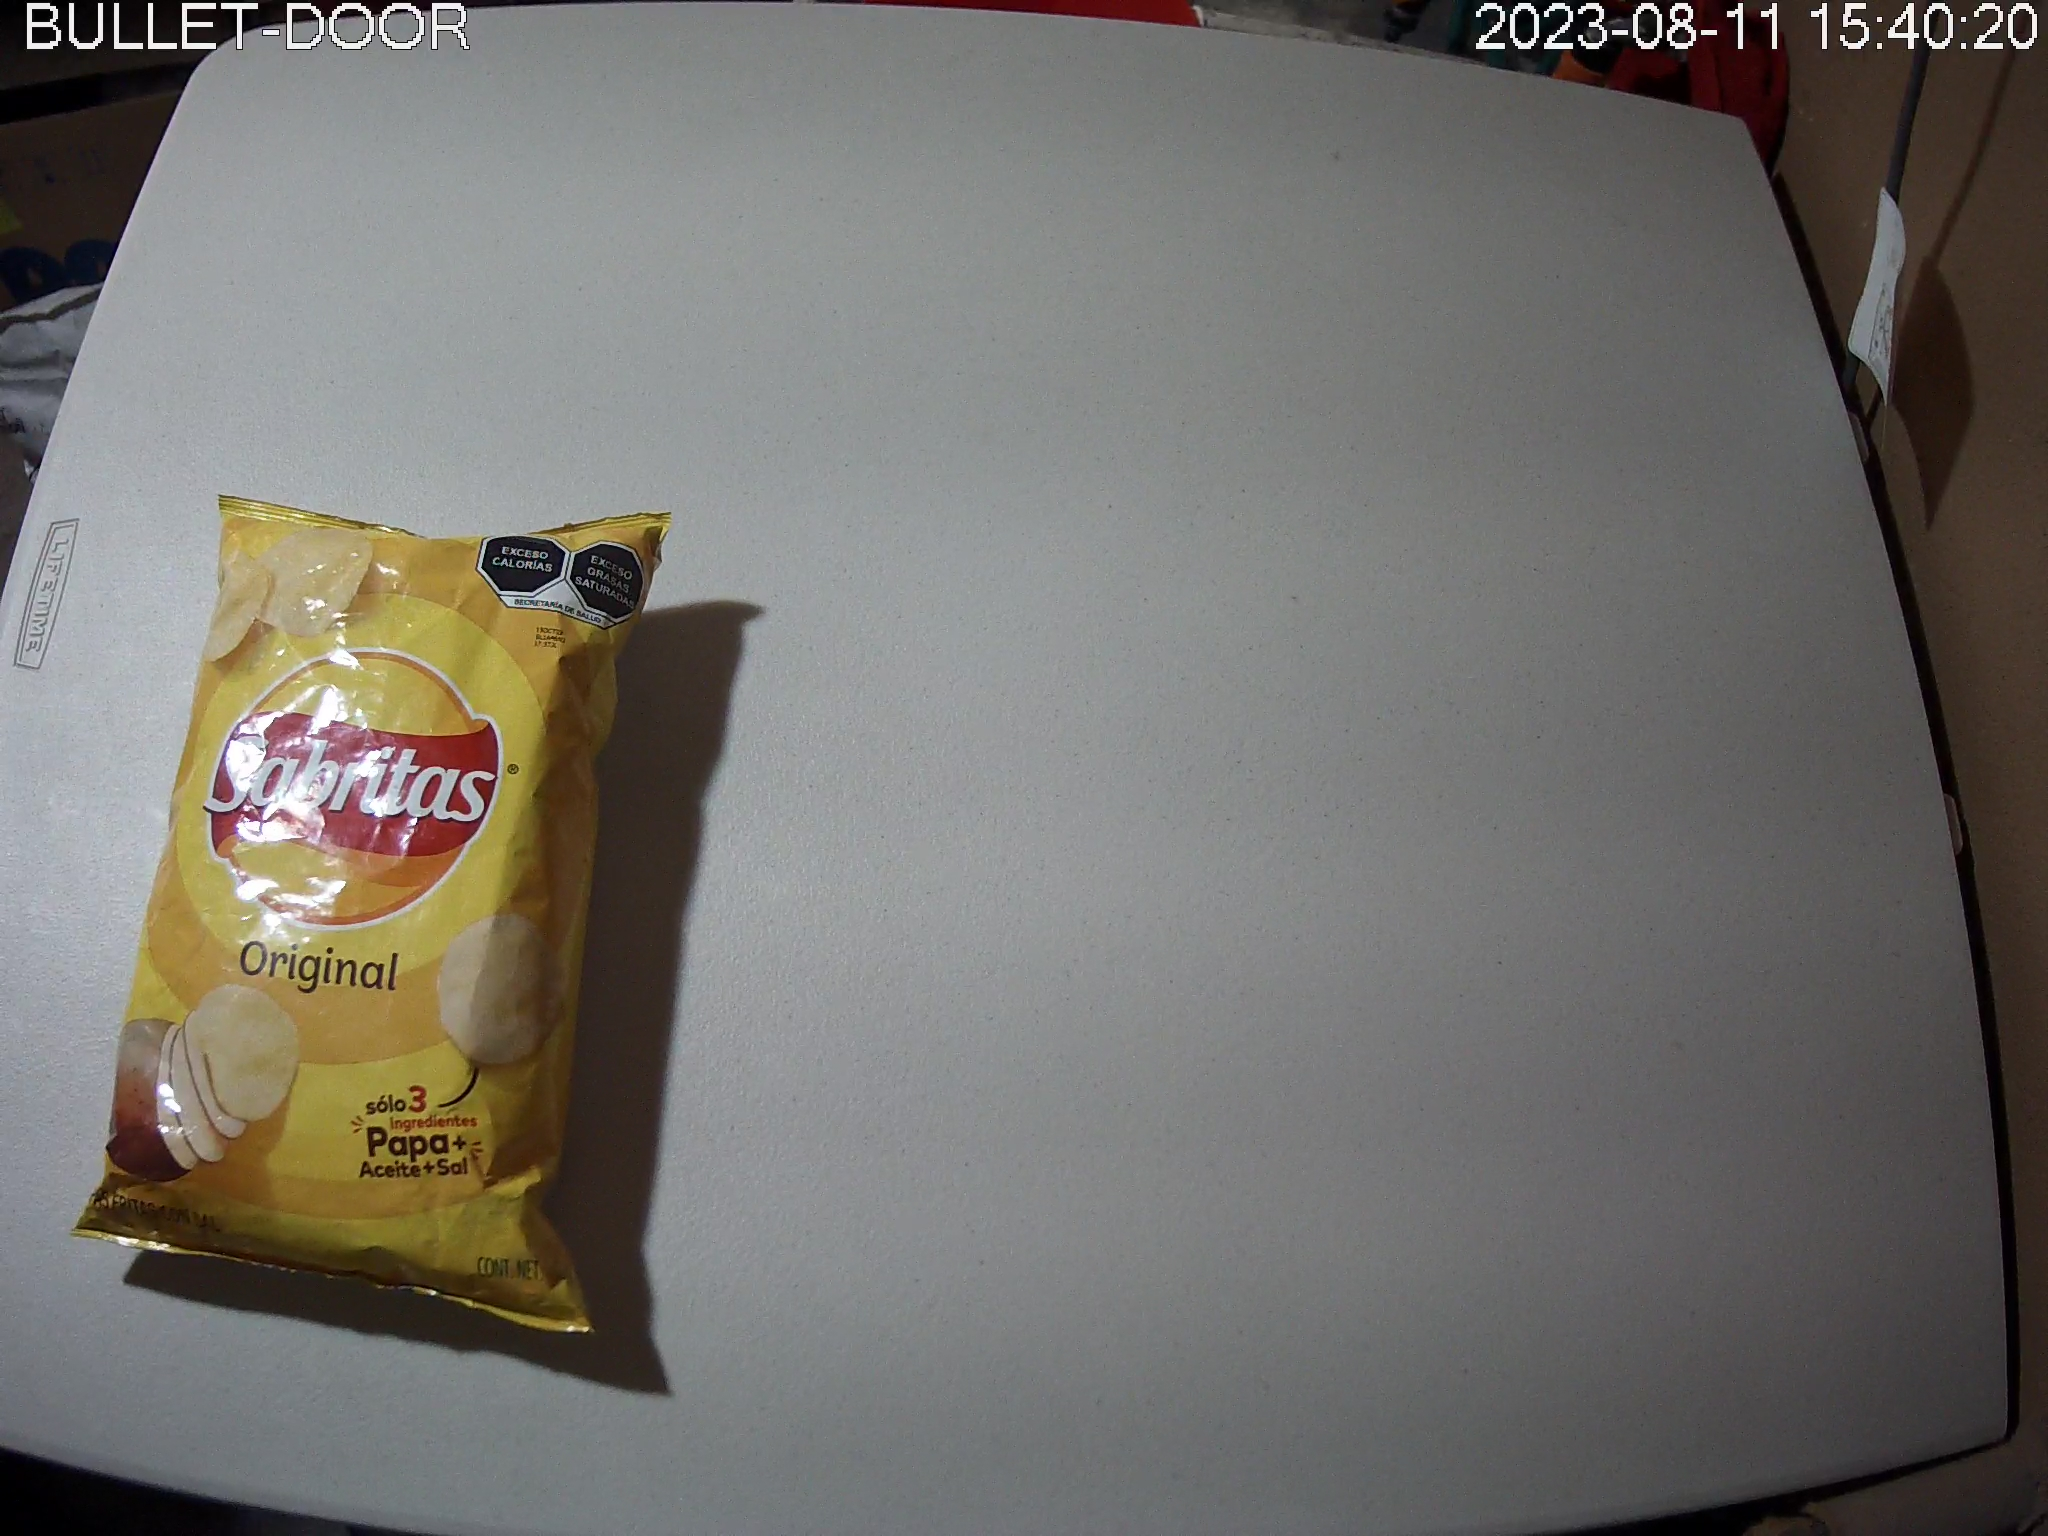Sabritas_160_F: (69, 492, 669, 1334)
